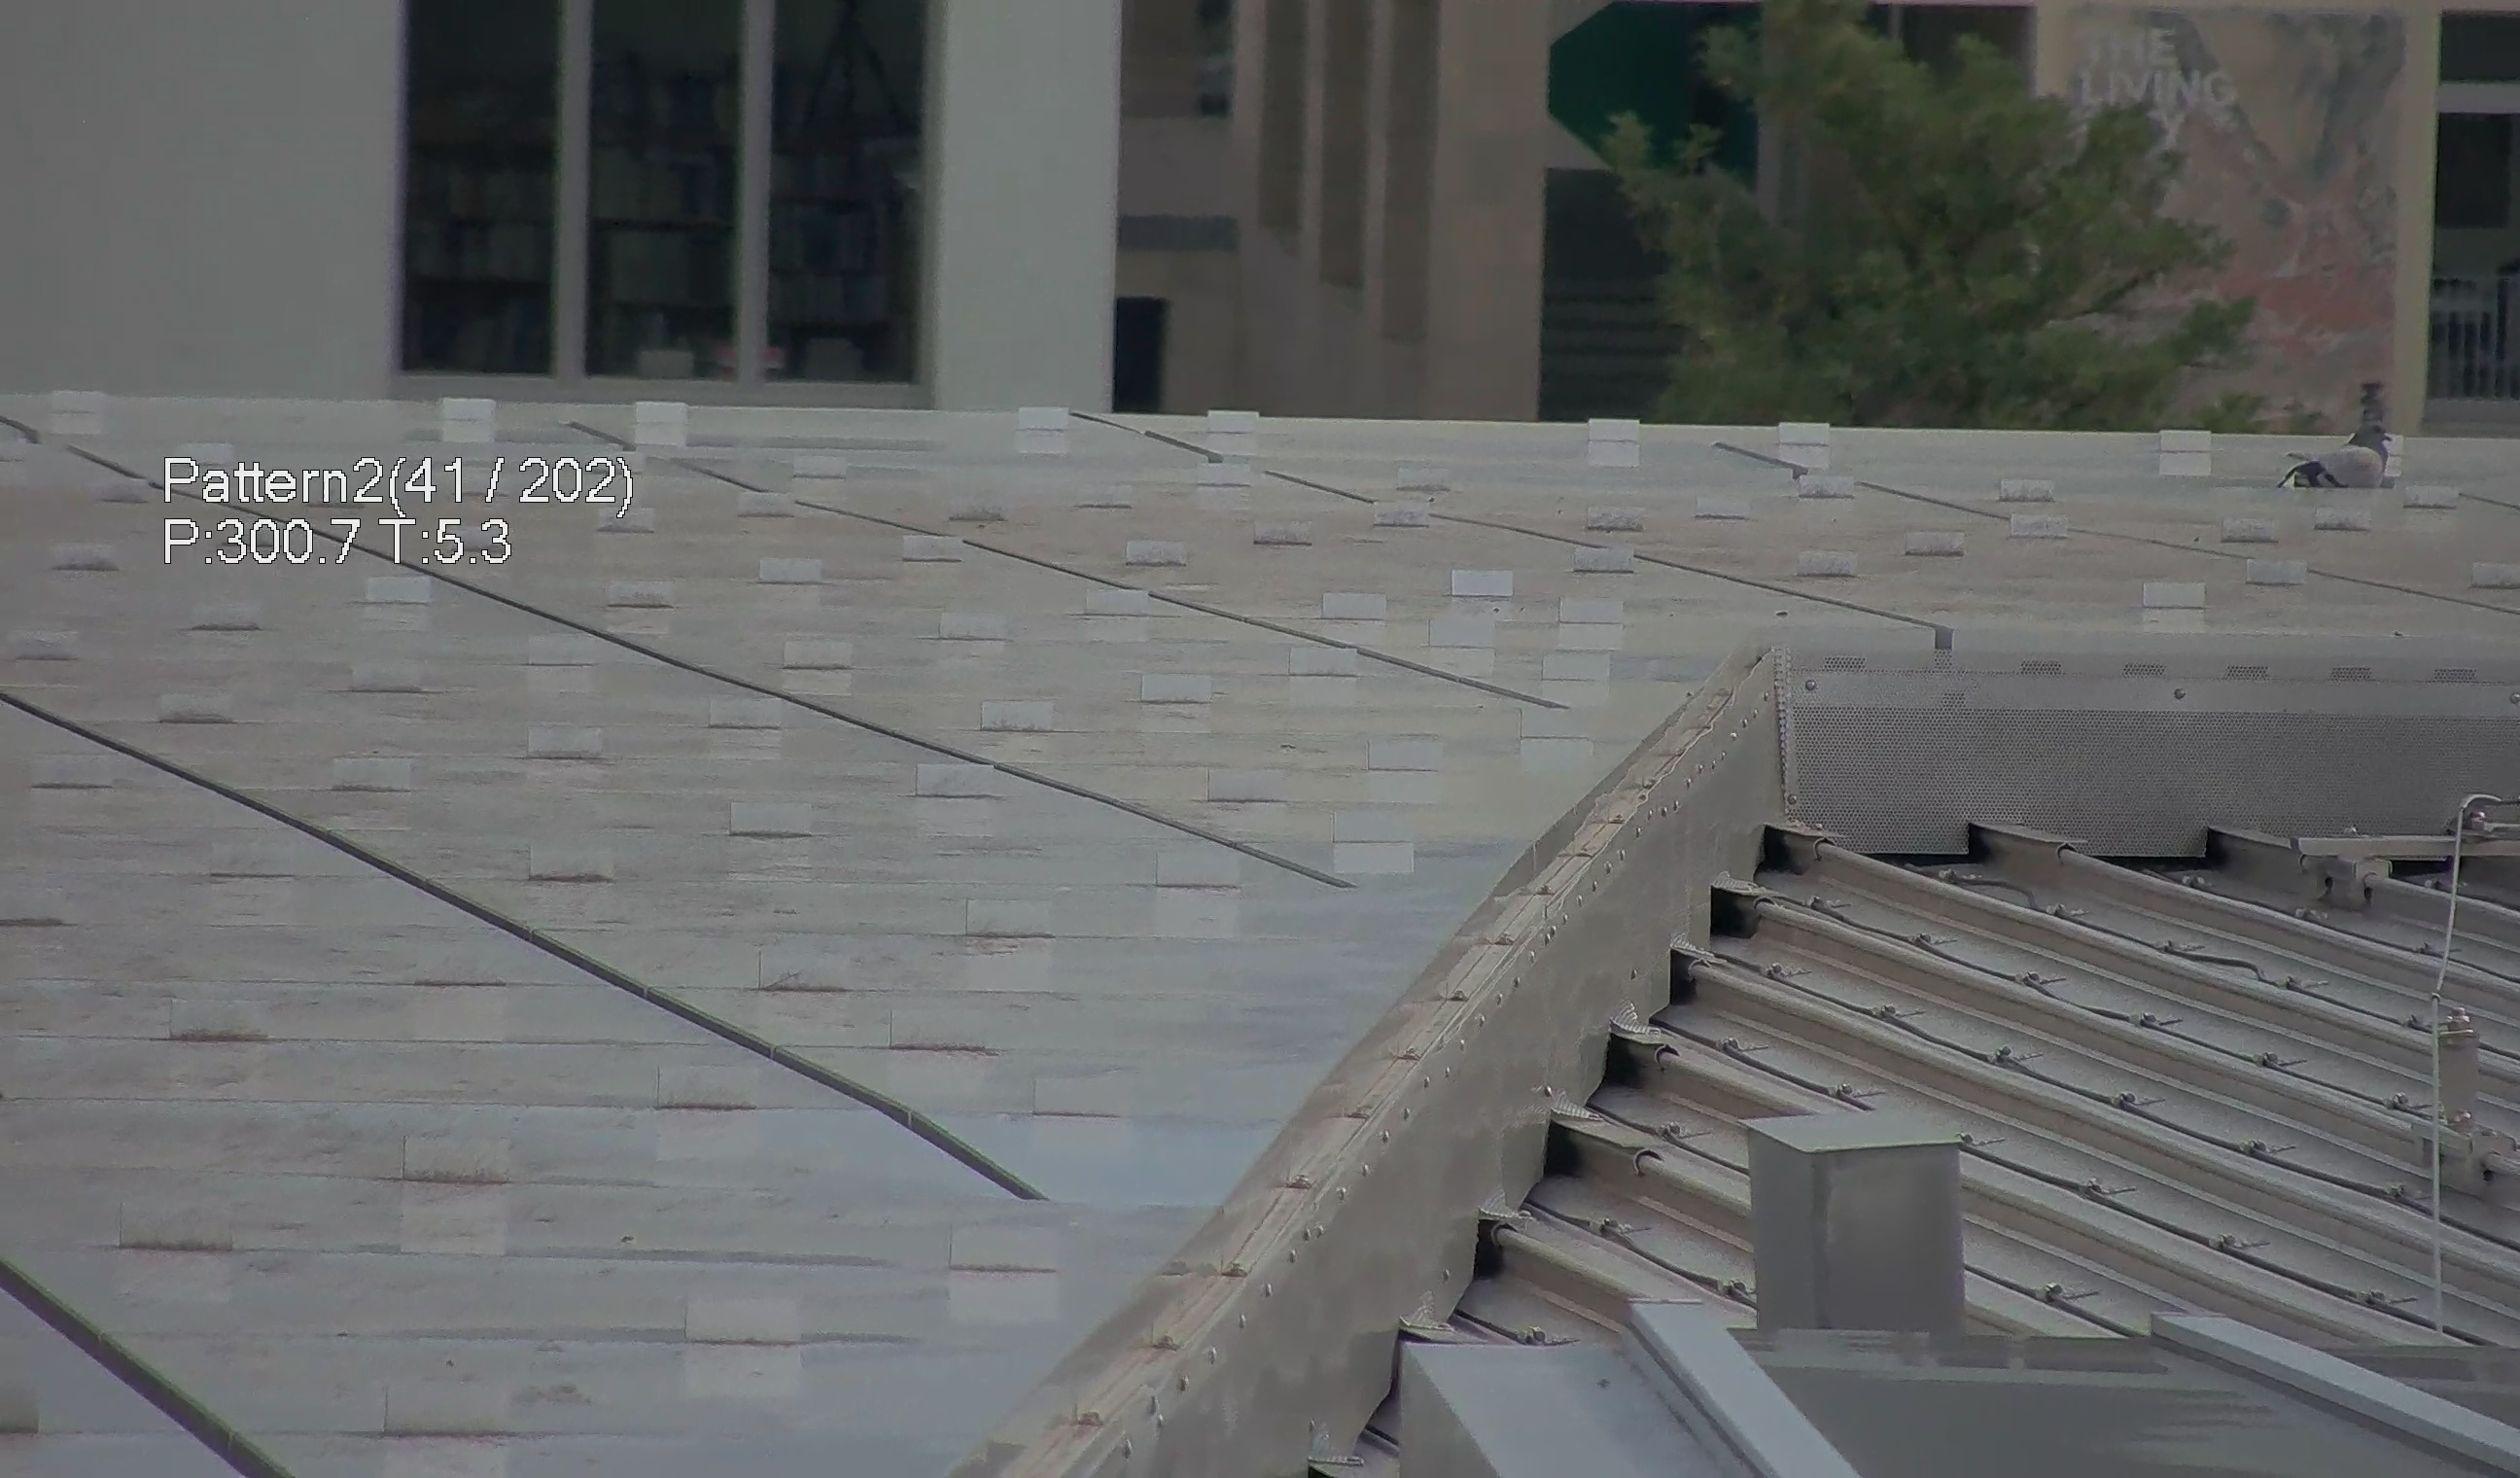Pigeon: (2276, 373, 2406, 503)
